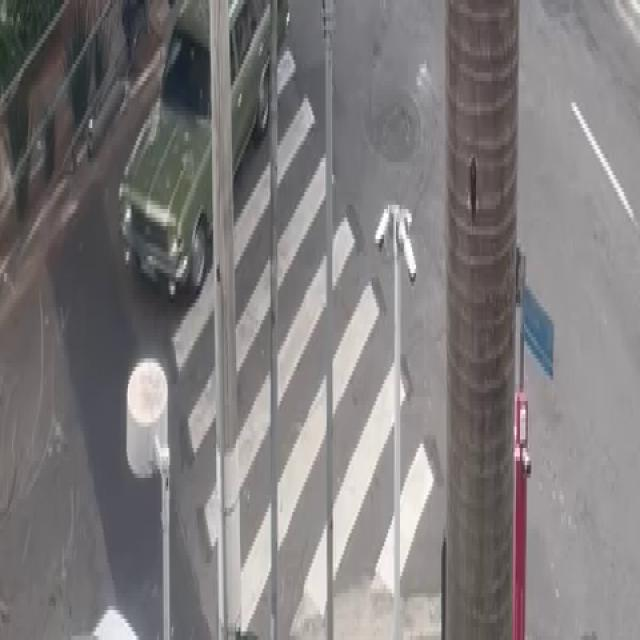car: (105, 0, 313, 304)
